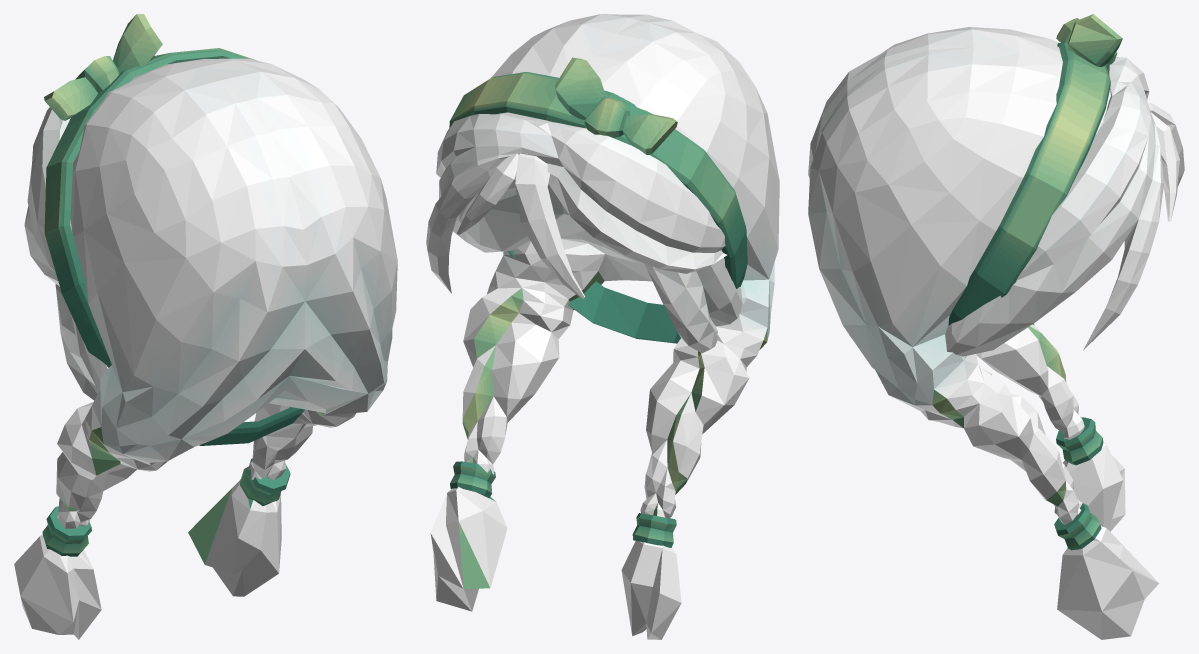
The model's file is CharSkyKid_Hair_AP10FrontBraids_01.glb.
The picture shows the model from 3 angles, left to right: view 1: azimuth 30°, elevation 25°; view 2: azimuth 150°, elevation 25°; view 3: azimuth 270°, elevation 25°; orthographic projection. The views are drawn at different scales.
Visible parts, largest first — view 1: CharSkyKid_Hair_AP10FrontBraids_01; view 2: CharSkyKid_Hair_AP10FrontBraids_01; view 3: CharSkyKid_Hair_AP10FrontBraids_01.
Boxes of the visible parts, bbox=[...] form: CharSkyKid_Hair_AP10FrontBraids_01: bbox=[14, 14, 397, 639]; CharSkyKid_Hair_AP10FrontBraids_01: bbox=[426, 14, 779, 639]; CharSkyKid_Hair_AP10FrontBraids_01: bbox=[808, 14, 1184, 639].
Bounding box in the file's own units: 2.66 × 5.27 × 3.13.
1 material, 1 textured.
